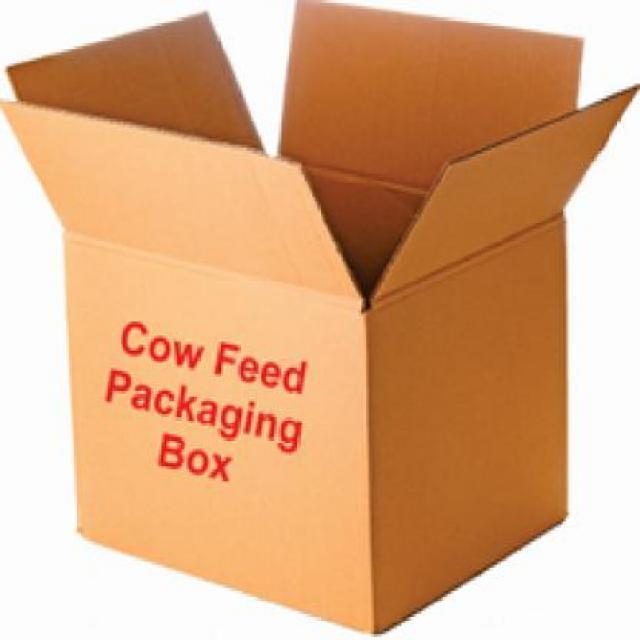box: (19, 5, 616, 636)
